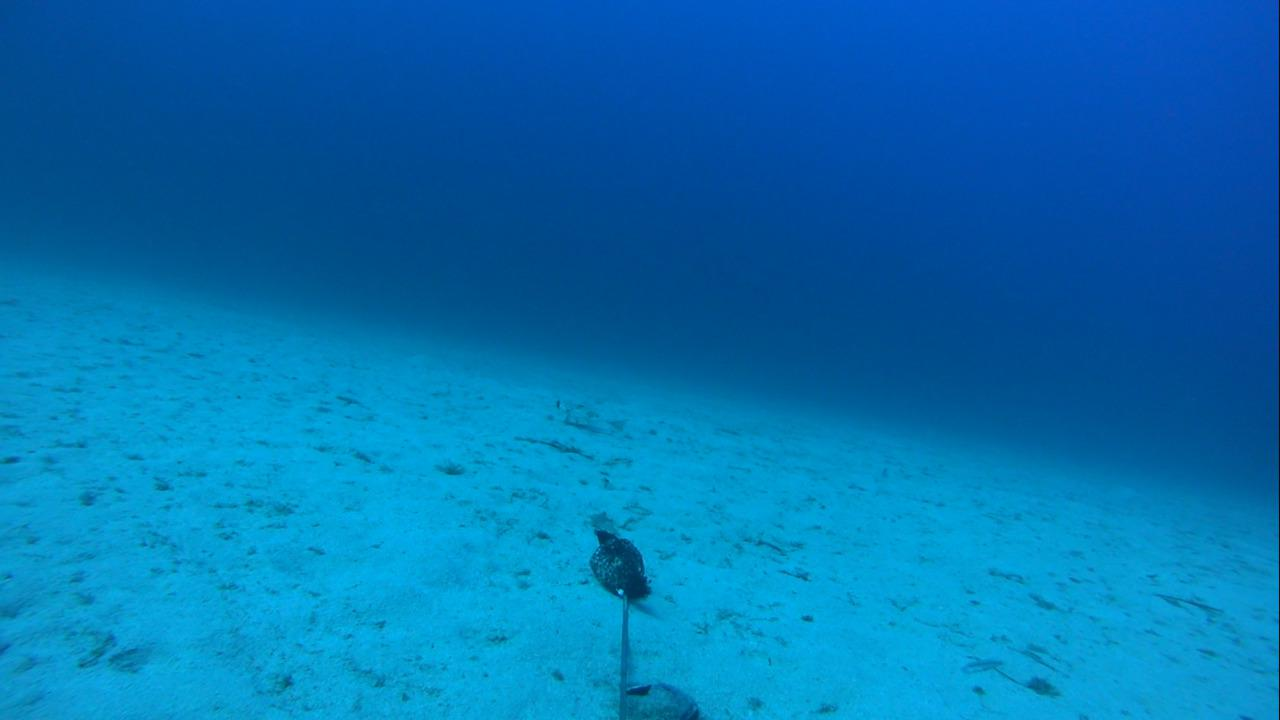dactylopterus: (538, 389, 642, 443)
